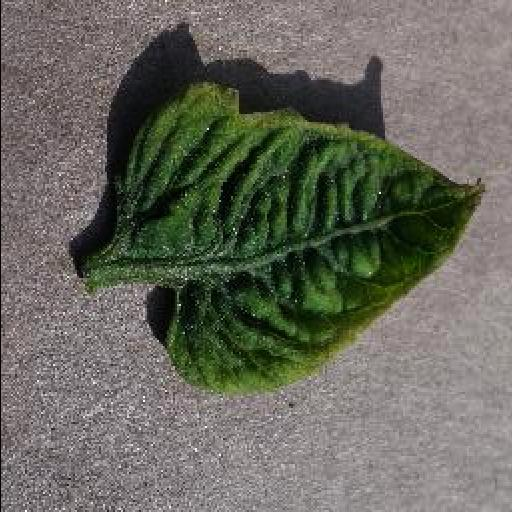disease_tomato: (112, 82, 484, 396)
